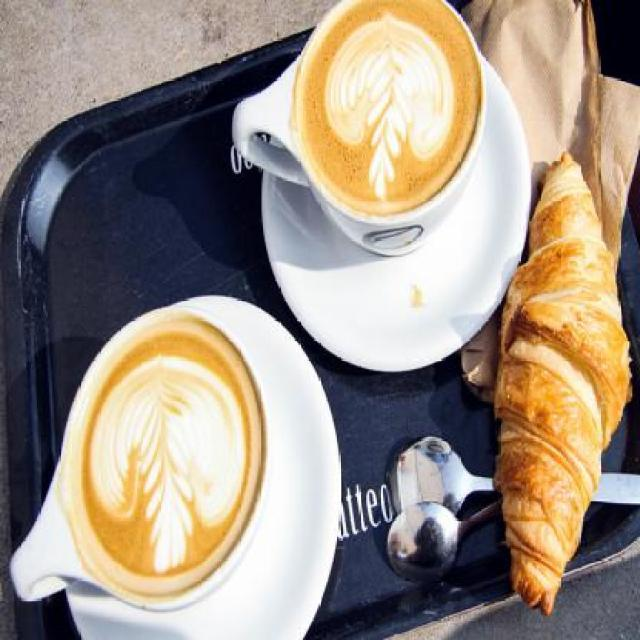Croissant: (496, 152, 636, 620)
